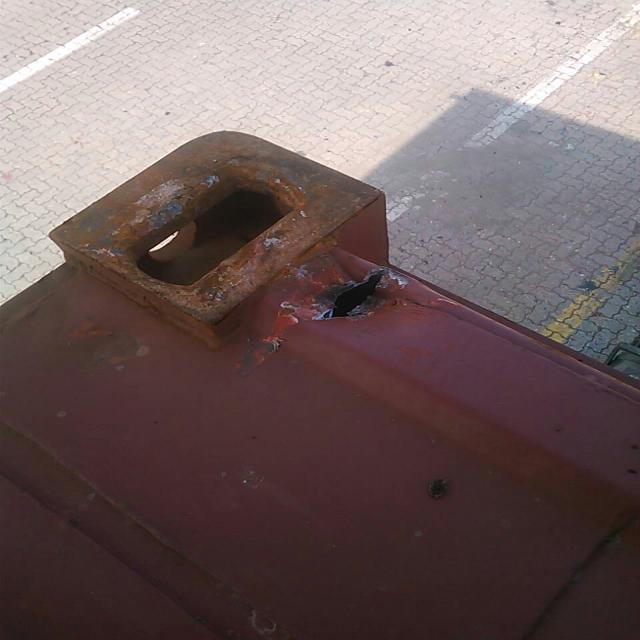hole: (296, 268, 412, 334)
